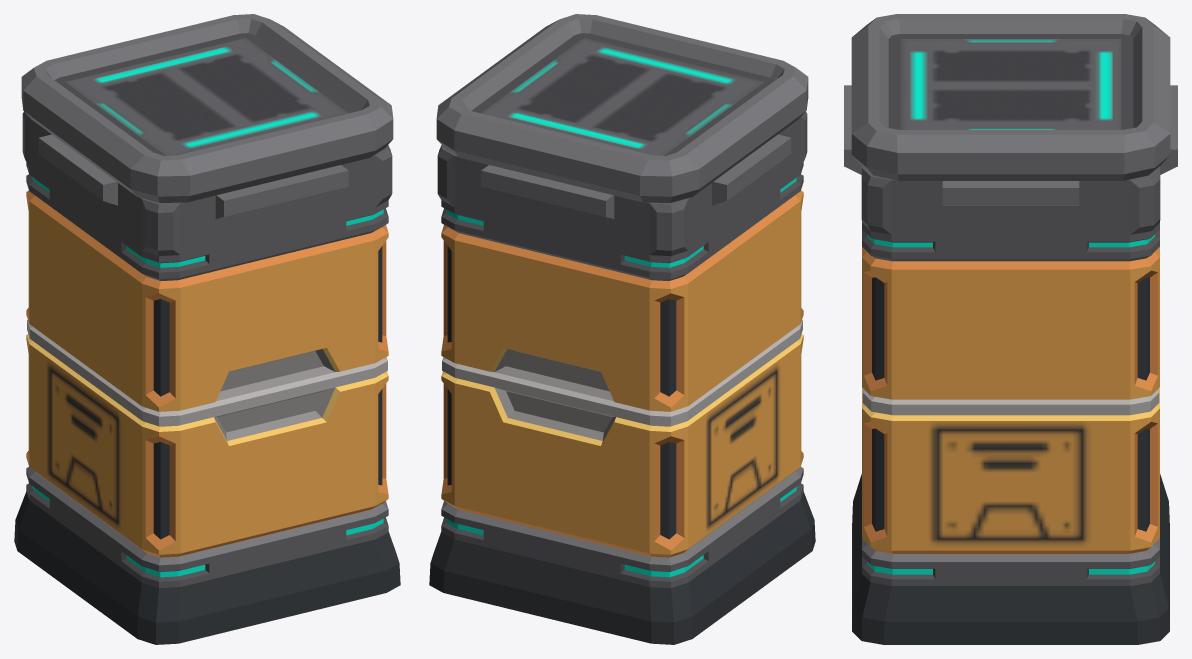
File: SM_Prop_Crate_05.fbx
The picture shows the model from 3 angles, left to right: view 1: azimuth 30°, elevation 25°; view 2: azimuth 150°, elevation 25°; view 3: azimuth 270°, elevation 25°; orthographic projection. The views are drawn at different scales.
Parts seen in each view (by area): view 1: SM_Prop_Crate_05; view 2: SM_Prop_Crate_05; view 3: SM_Prop_Crate_05.
Boxes of the visible parts, box(x1,y1,x2,y2) form: SM_Prop_Crate_05: box(14, 14, 400, 644); SM_Prop_Crate_05: box(429, 14, 815, 644); SM_Prop_Crate_05: box(844, 14, 1177, 644).
Size of the model in its own units: 75.27 by 125 by 75.27.
